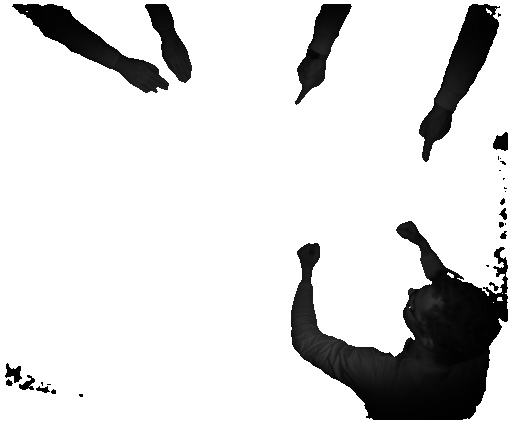fist: (392, 216, 424, 244), (296, 240, 319, 271)
hand: (416, 112, 453, 167), (288, 59, 327, 111), (119, 59, 171, 95), (162, 35, 191, 85)
